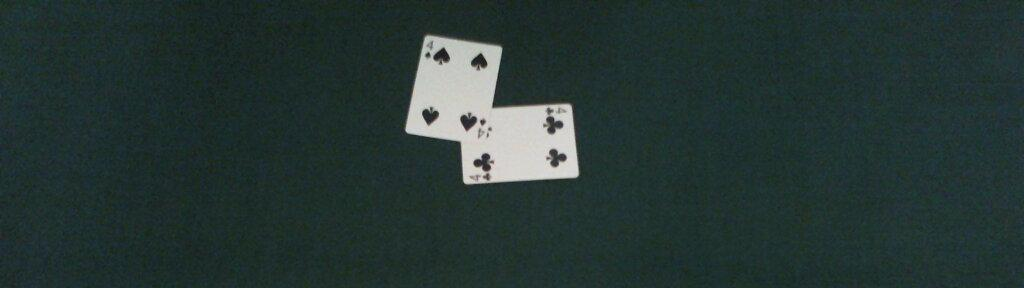four: (404, 34, 502, 144), (460, 102, 579, 185)
